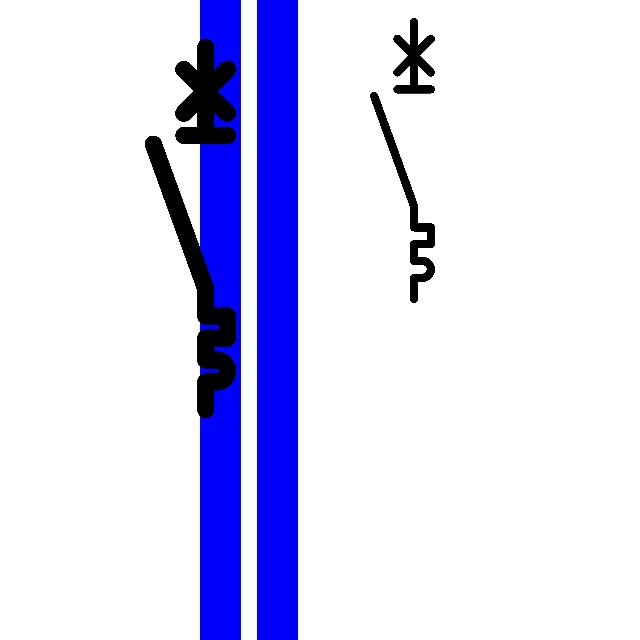interruptor_termomagnetico: (144, 38, 237, 419), (367, 15, 438, 306)
